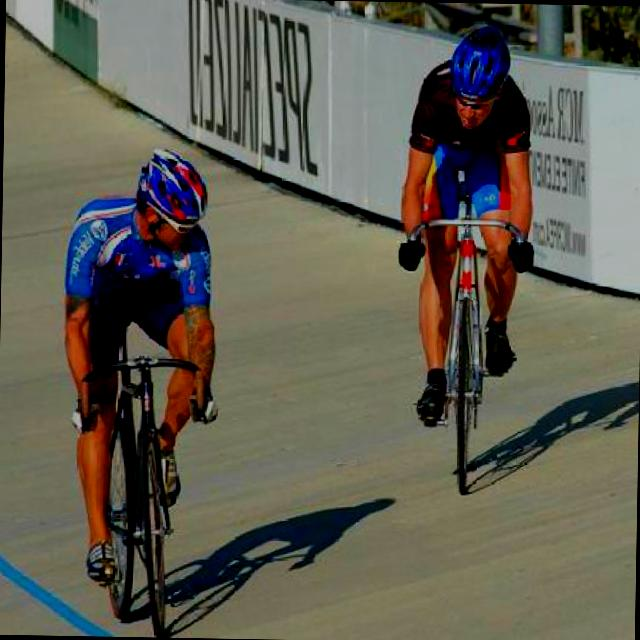Person: (52, 147, 218, 584), (396, 20, 541, 422)
